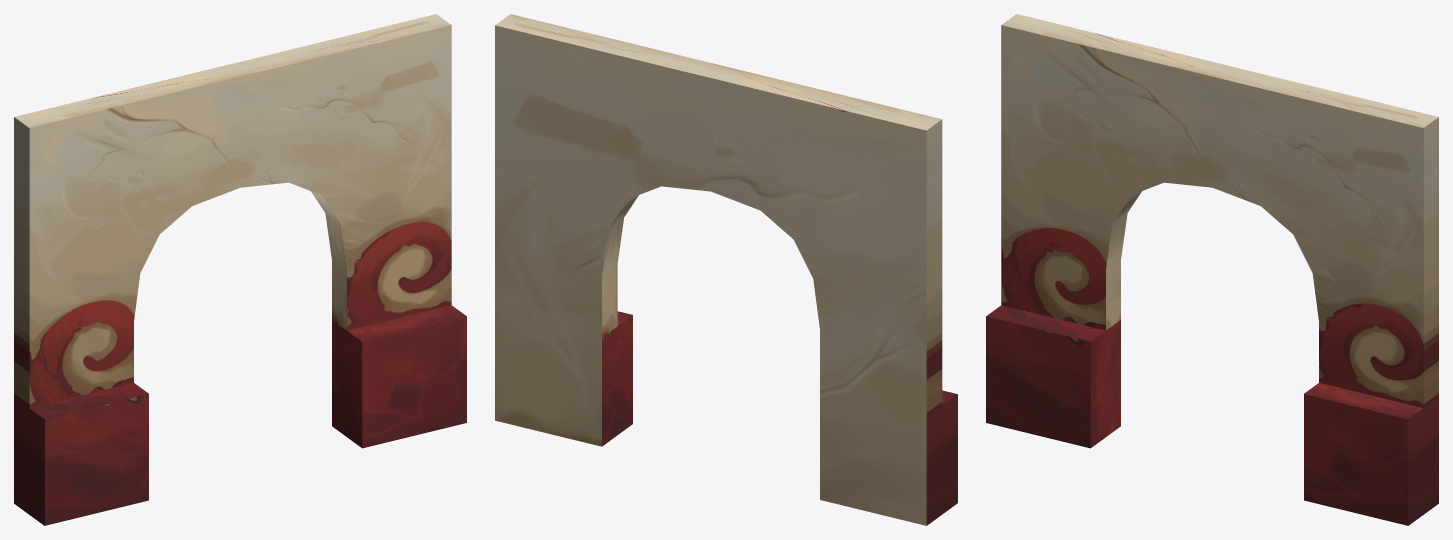
Rendered from Modulaire_Entree.fbx.
3 views of the same model, side by side, from view 1: azimuth 30°, elevation 25°; view 2: azimuth 150°, elevation 25°; view 3: azimuth 330°, elevation 25° (orthographic). The views are drawn at different scales.
Parts seen in each view (by area): view 1: Box003; view 2: Box003; view 3: Box003.
Part boxes in pixels (x1,y1,x2,y2): Box003: (14, 14, 466, 525); Box003: (495, 14, 957, 525); Box003: (986, 14, 1438, 525).
Size of the model in its own units: 2 by 1.75 by 0.25.
